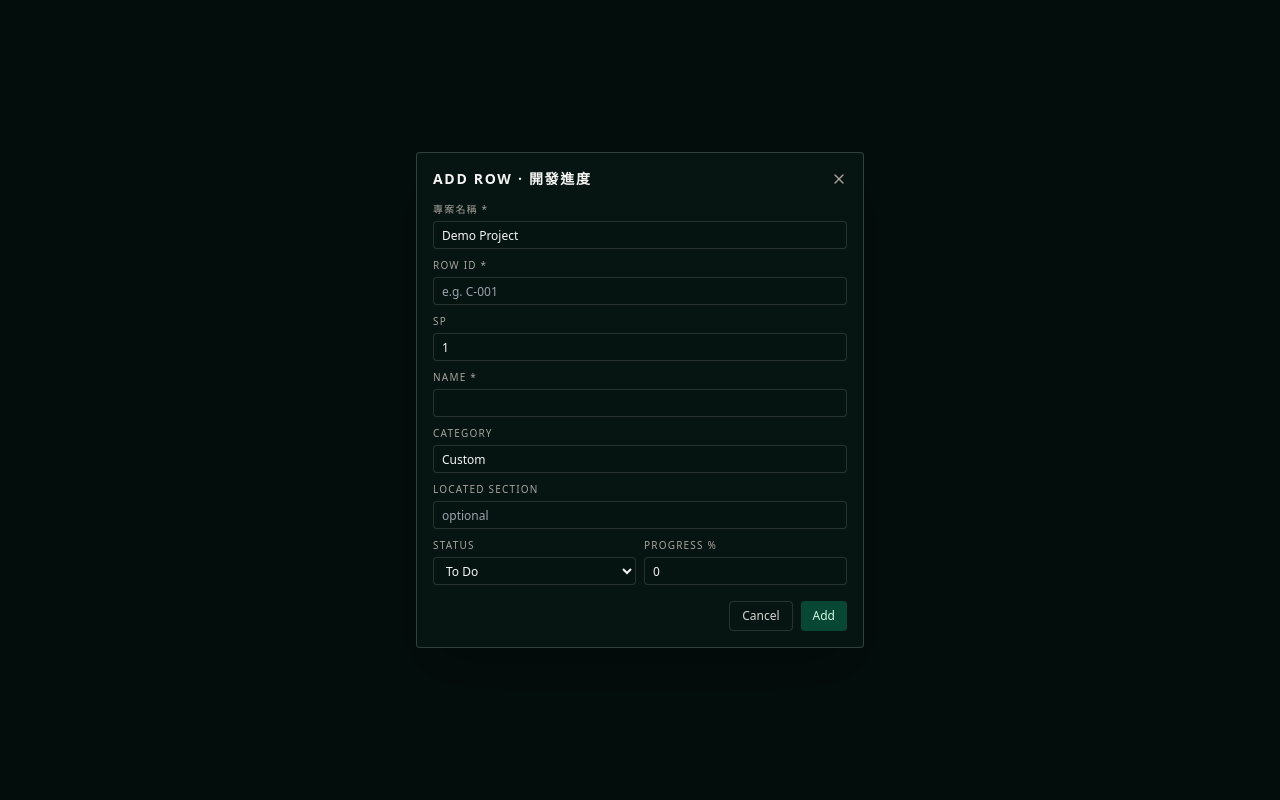
Test: AddRowModal submission payloads › rejects a duplicate rowId already present in existingIds
The image size is (1280, 800).
Step 1. Type "DUP" into the field with placeholder "e.g. C-001" → (640, 291), box [433,277,847,305]
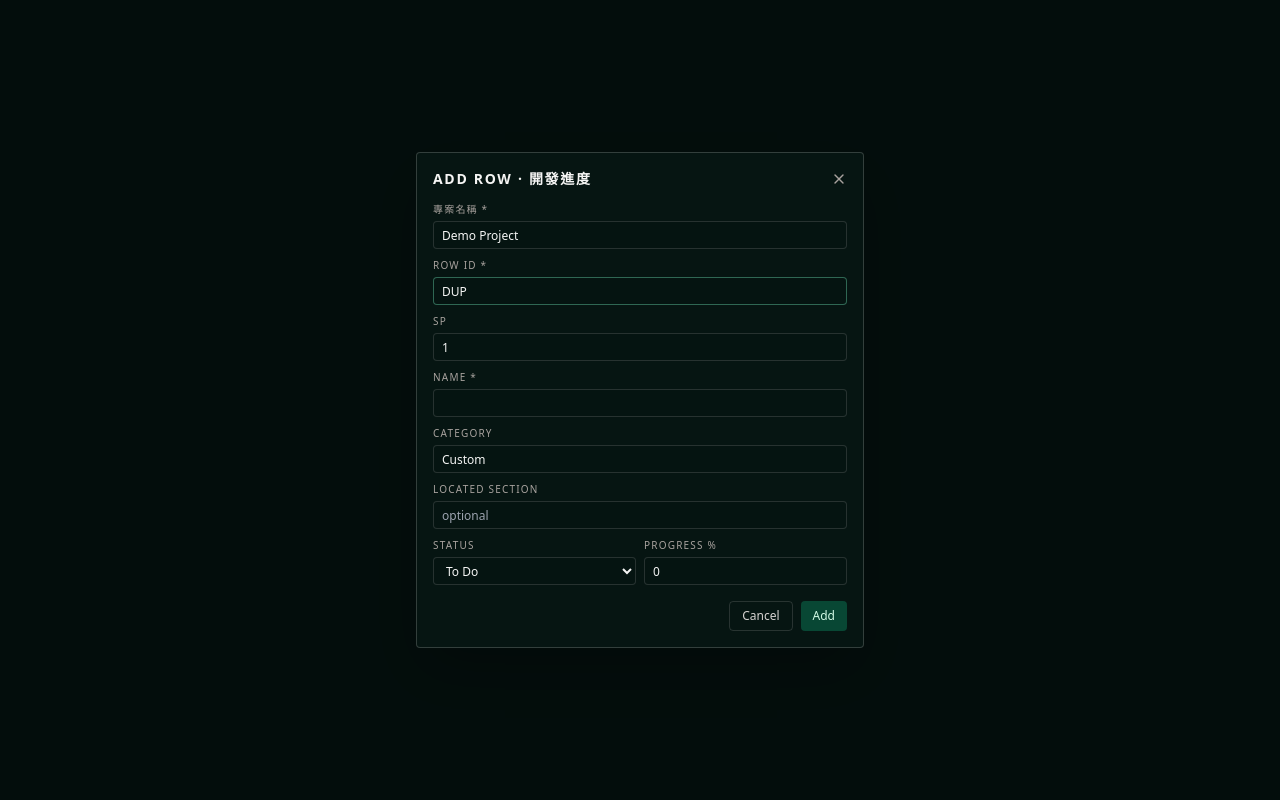
Step 2. Type "name" into the field labelled "Name *" → (640, 403), box [433,389,847,417]
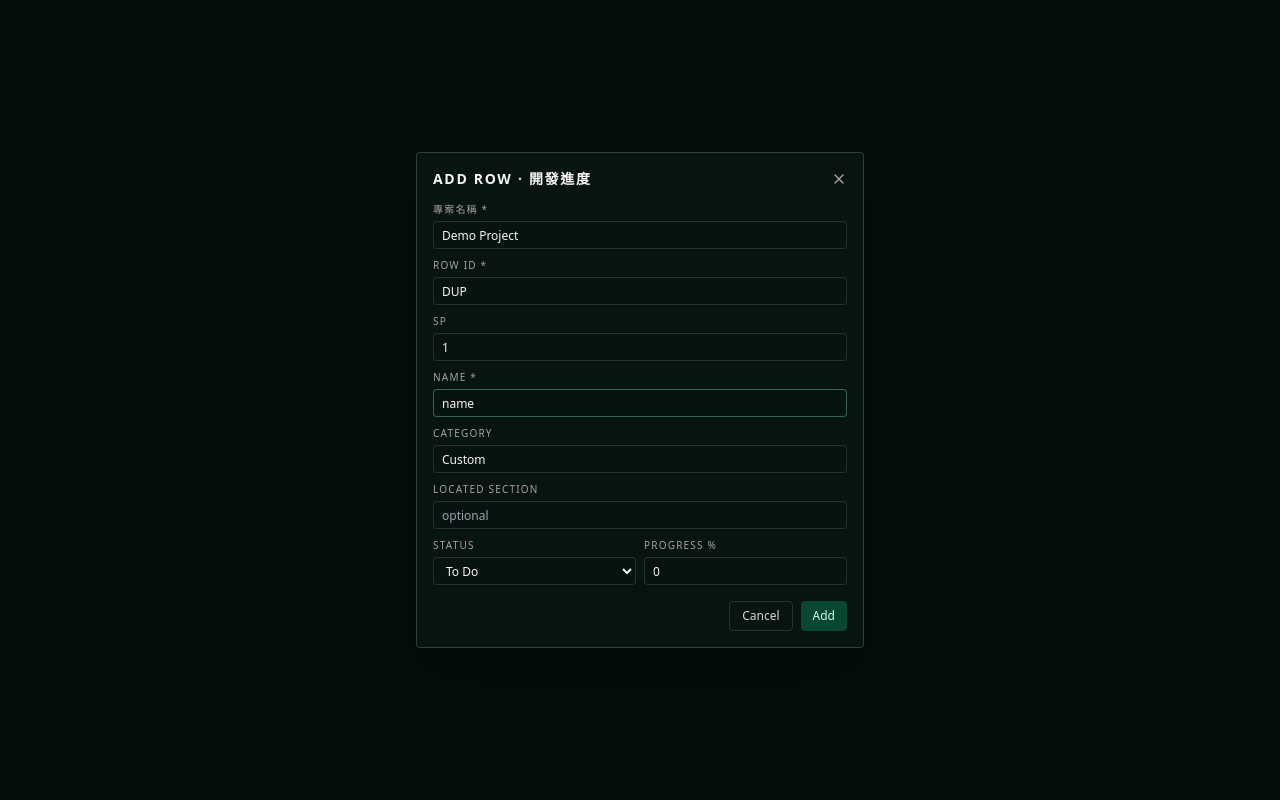
Step 3. Click the button "Add" → click(824, 616), box [801,601,847,631]
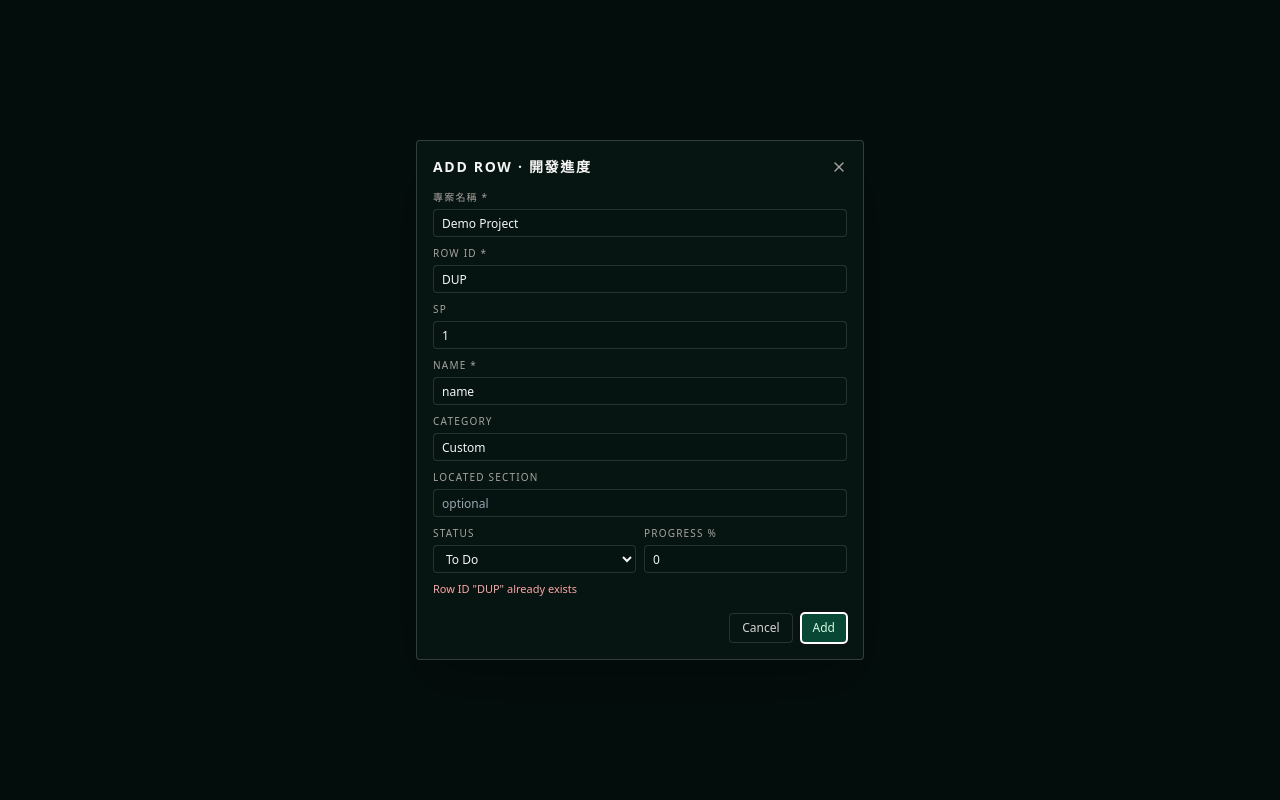
Expected: the text "Row ID \"DUP\" already exists" is shown, [433,581,577,596]
